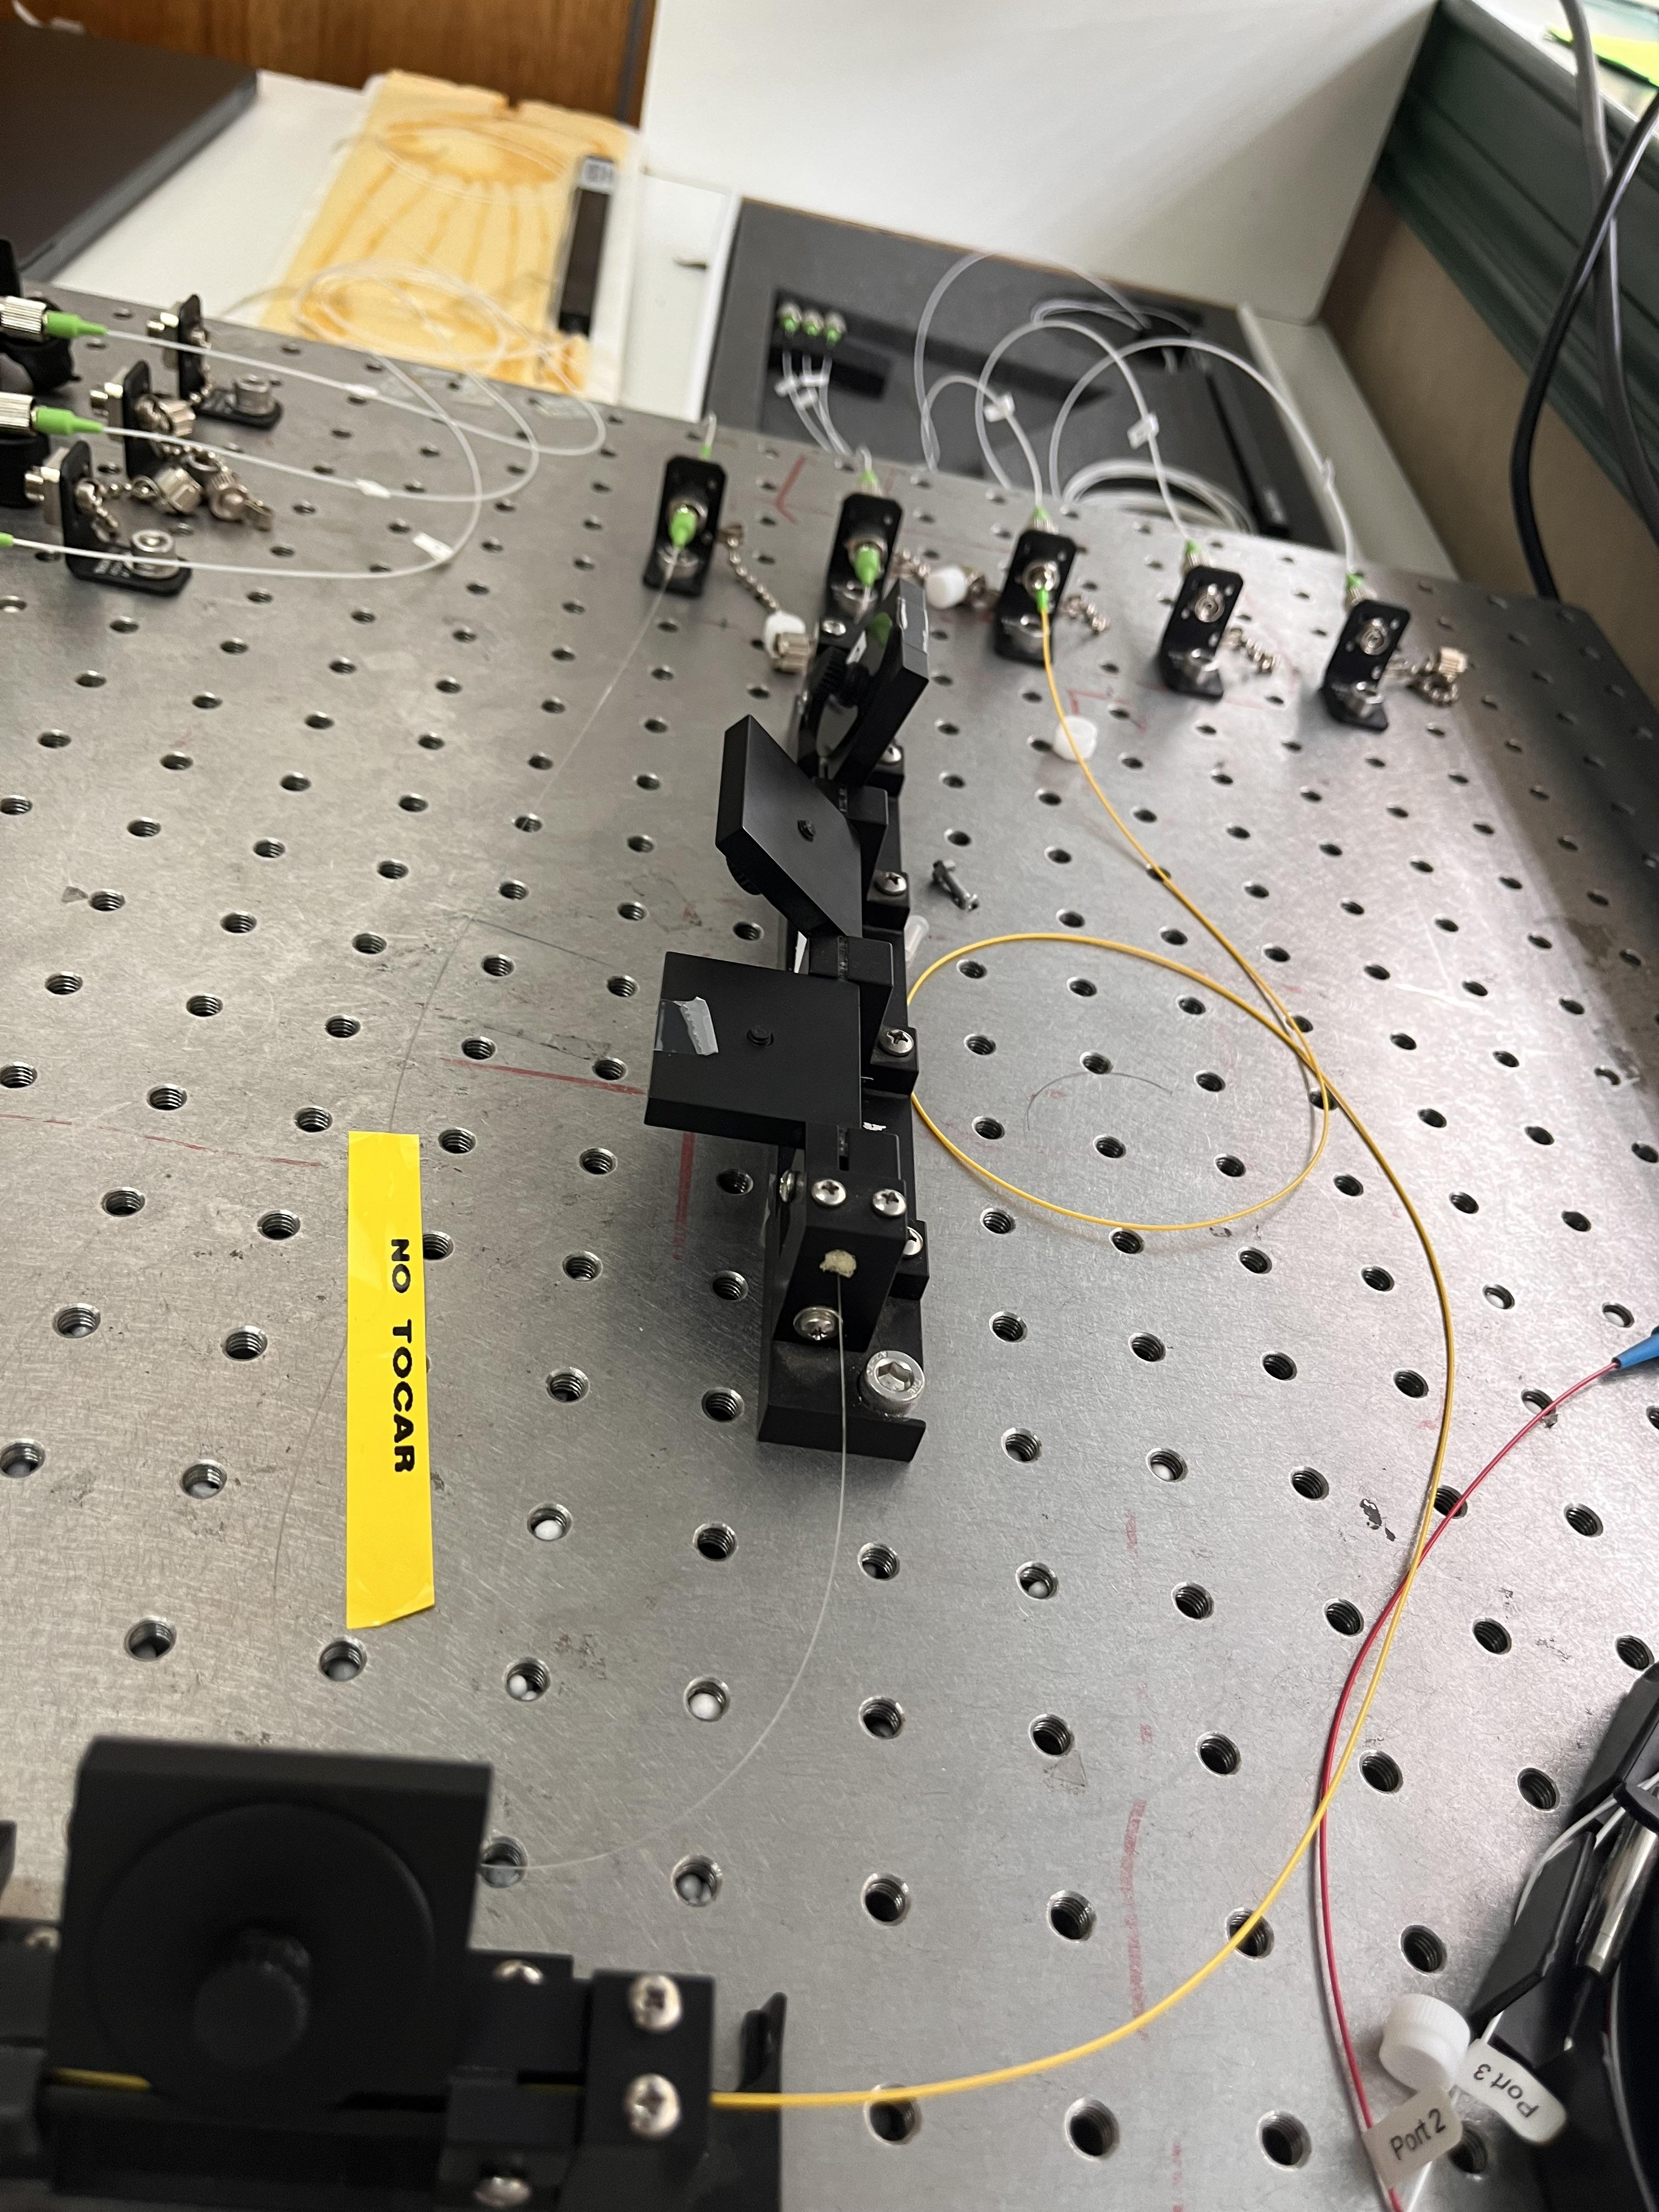paddle_polarization_controller: (633, 563, 936, 1479)
